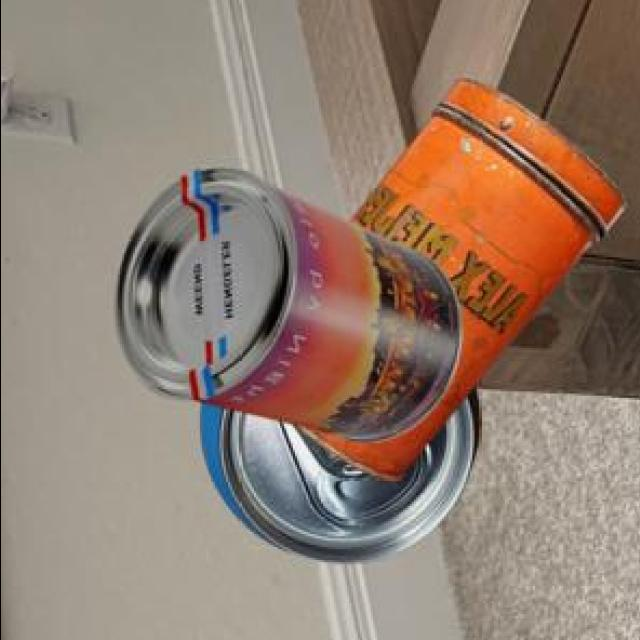logam: (295, 75, 622, 477), (111, 163, 457, 438), (196, 384, 475, 561)
